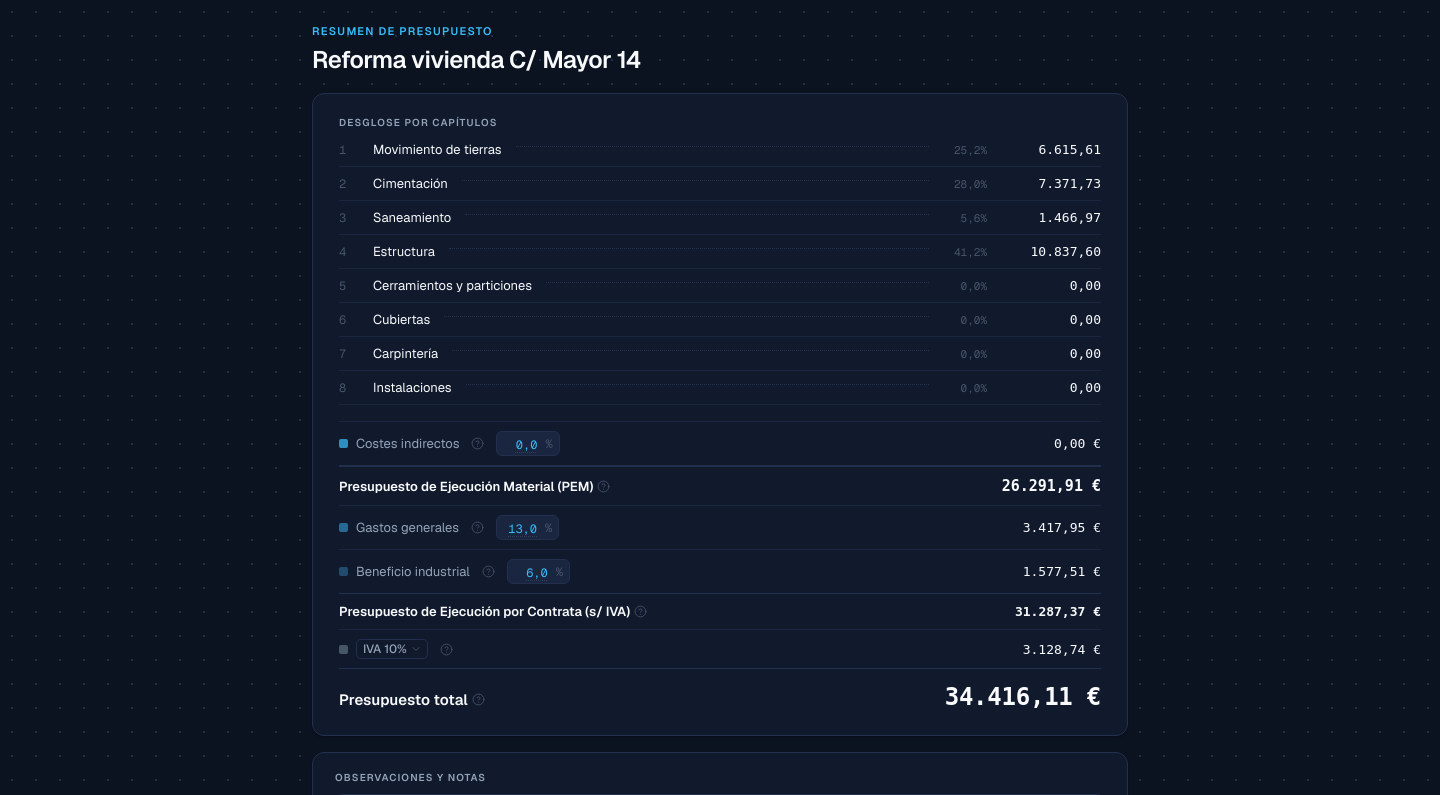
Test case: ResumenView (F7.1) — hoja editable › editar GG% recalcula vía setRates (único hogar de edición de GG/BI)
This screenshot has width=1440, height=795.
Click the button named "Gastos generales" at (522, 529), box [501,518,543,540]
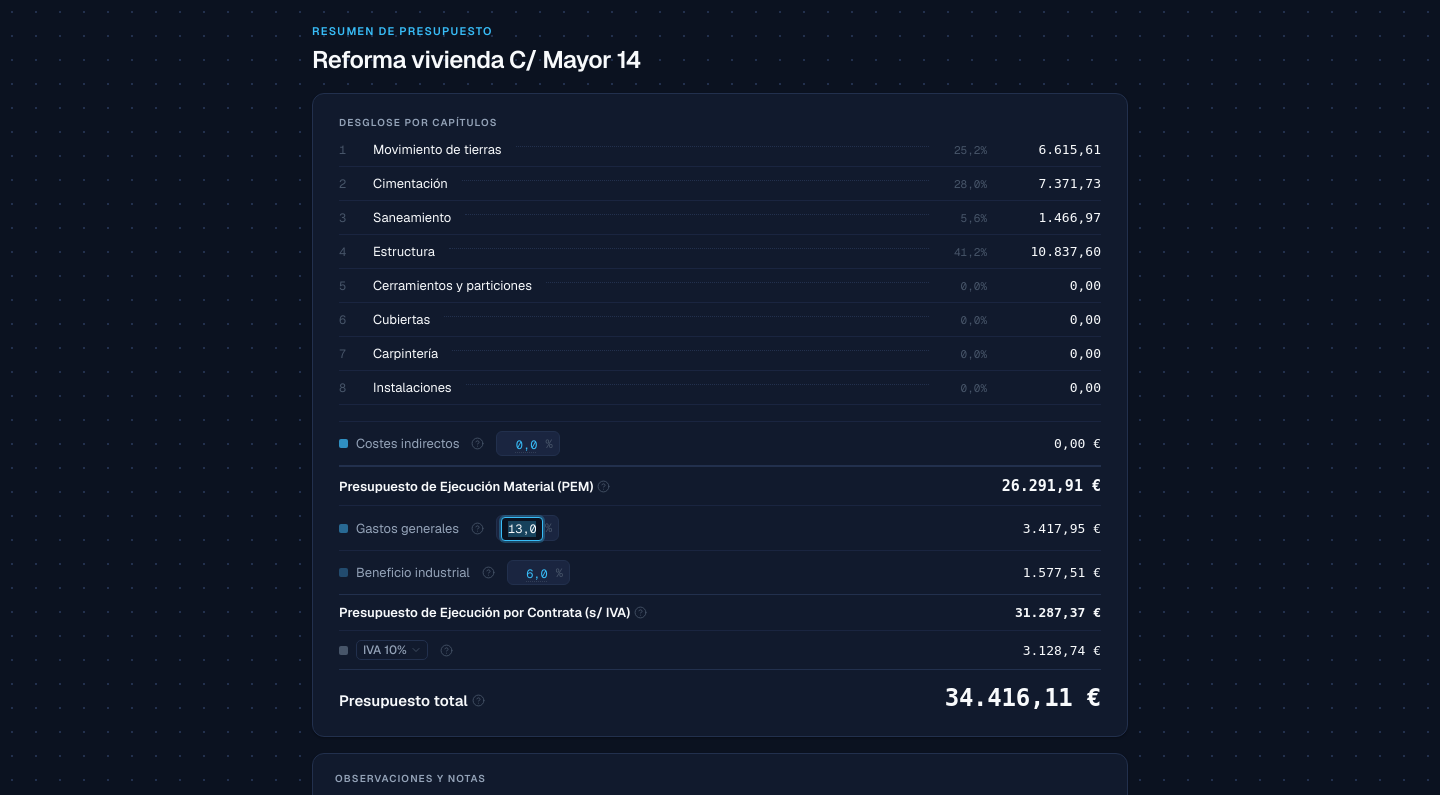
Replace the text in the field named "Gastos generales" with "10" at (522, 529), box [501,517,543,541]
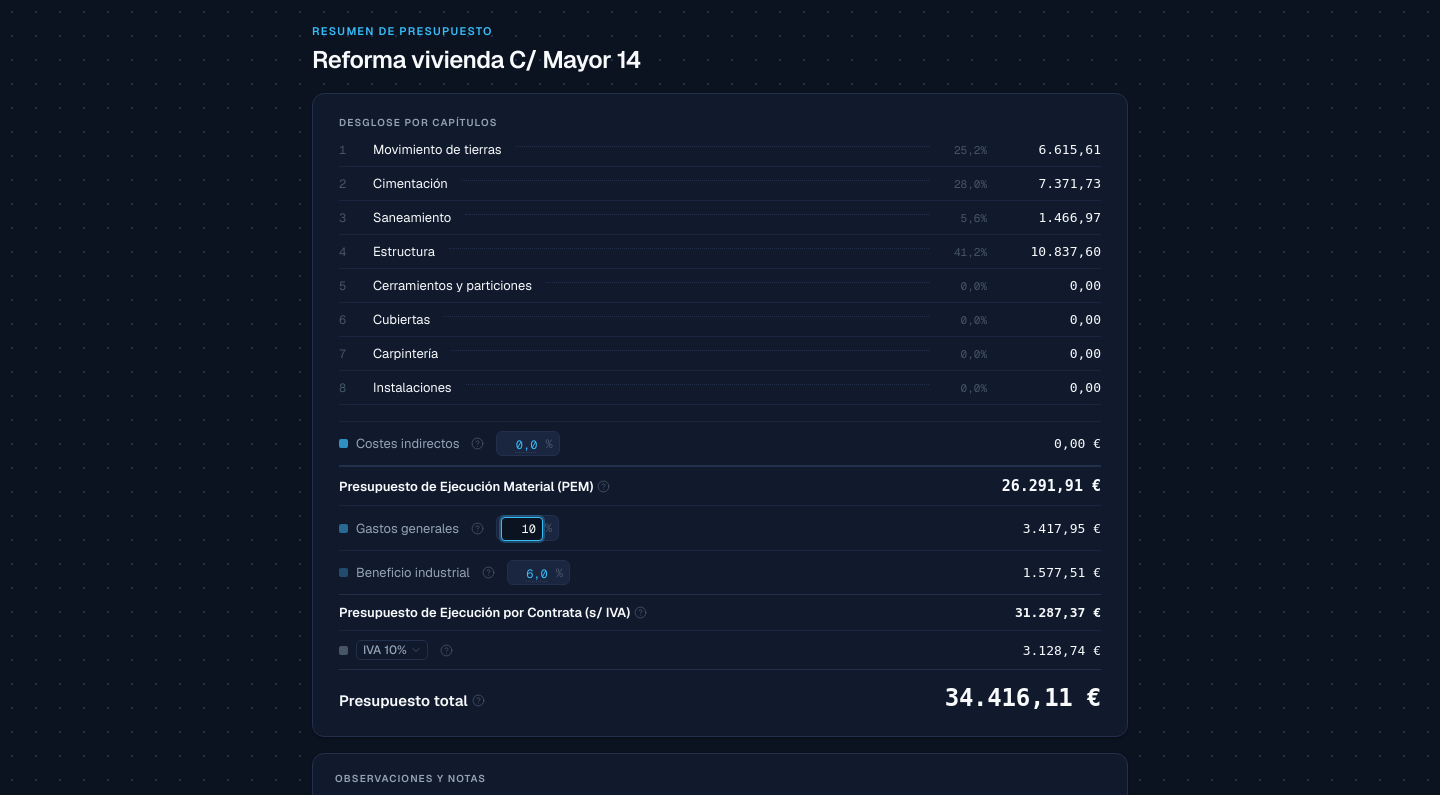
Press Enter in the field named "Gastos generales", box [501,517,543,541]
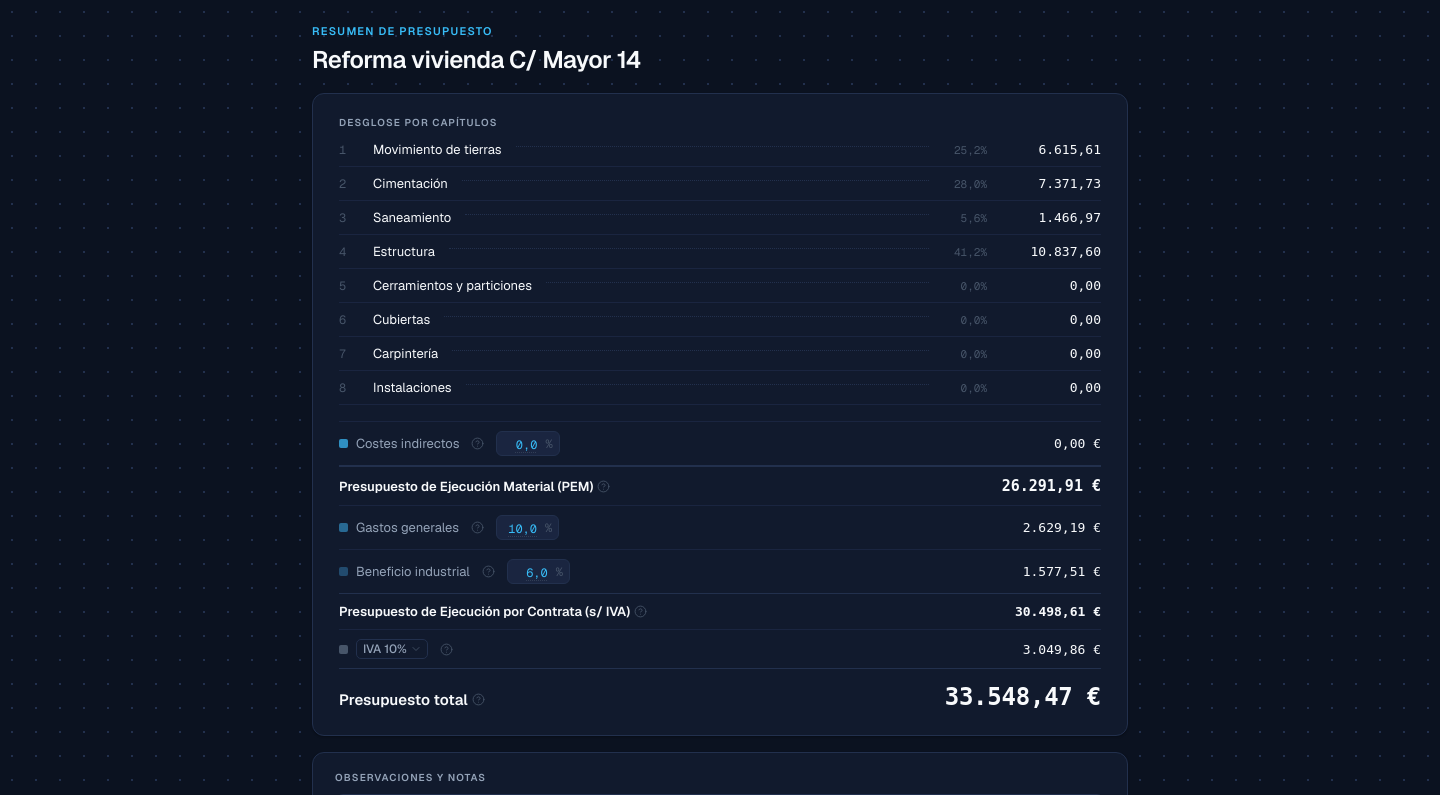
Result: the text "2.629,19 €" is shown at [1023,520,1101,535]
